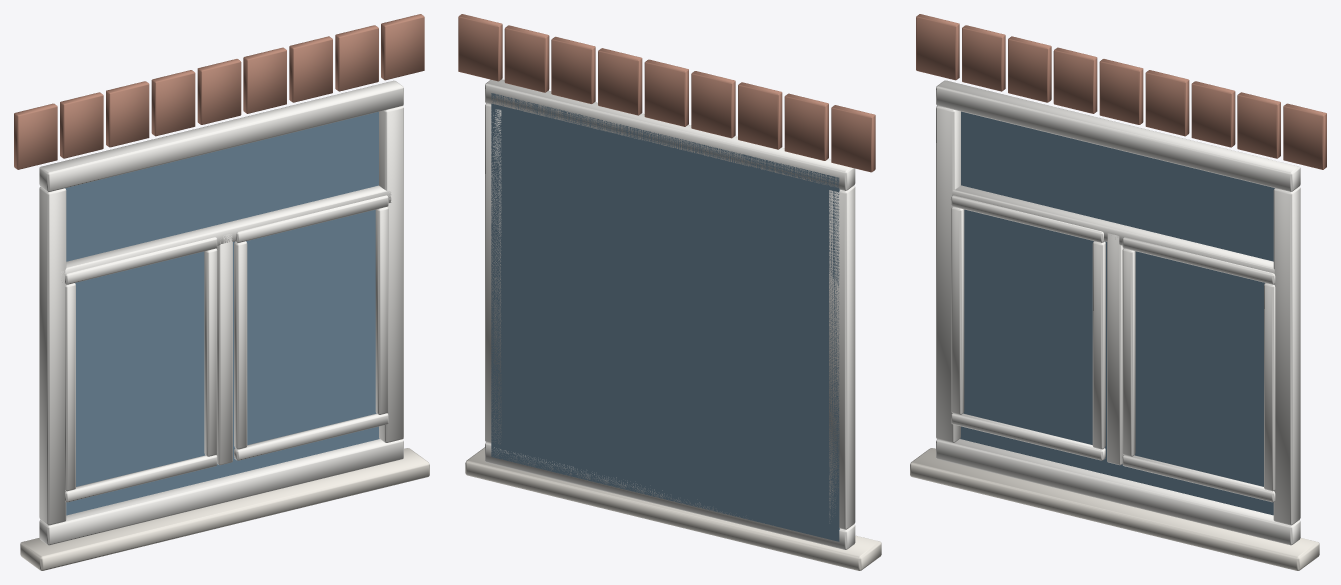
The model's file is window_brick.glb.
3 renders of one model, left to right at view 1: azimuth 30°, elevation 25°; view 2: azimuth 150°, elevation 25°; view 3: azimuth 330°, elevation 25°, orthographic.
Visible parts, largest first — view 1: Body; view 2: Body; view 3: Body.
Part boxes in pixels (<box>): Body: <box>14,14,429,570</box>; Body: <box>458,14,881,570</box>; Body: <box>910,14,1326,570</box>.
Bounding box in the file's own units: 1.71 × 1.8 × 0.16.
